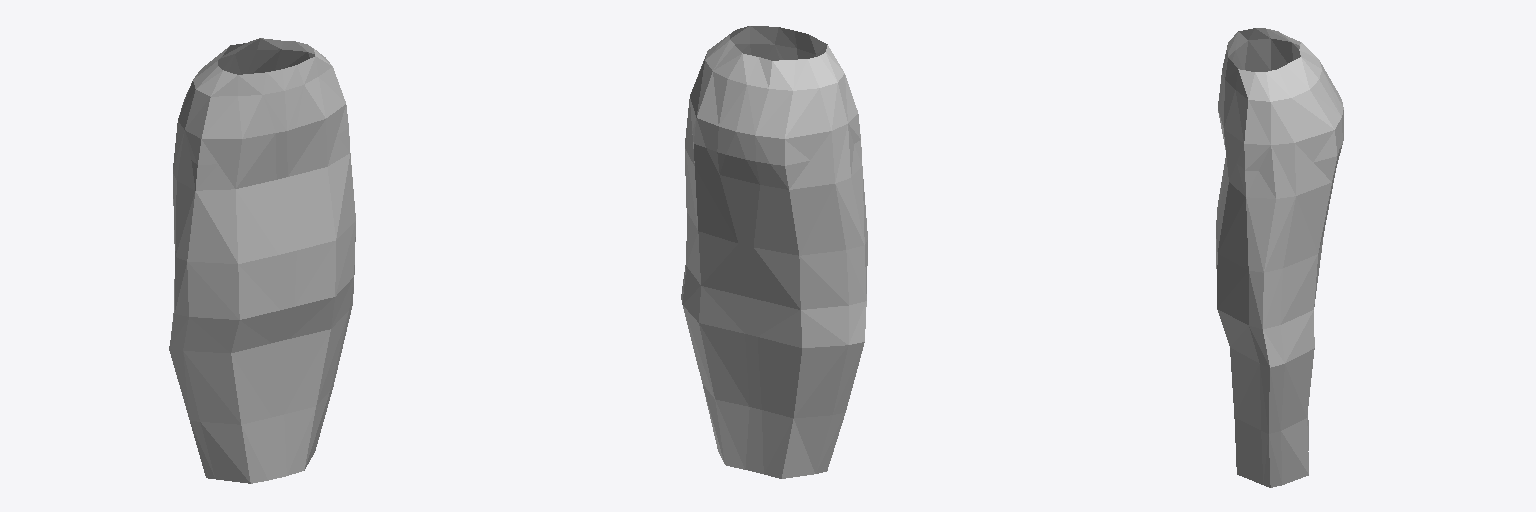
The model's file is avatar_skirt-skirt_bowlegs.obj.
3 renders of one model, left to right at view 1: azimuth 30°, elevation 25°; view 2: azimuth 150°, elevation 25°; view 3: azimuth 270°, elevation 25°, orthographic.
Visible parts, largest first — view 1: g1_avatar_skirt; view 2: g1_avatar_skirt; view 3: g1_avatar_skirt.
Part boxes in pixels (bbox=[...]): g1_avatar_skirt: bbox=[169, 38, 355, 483]; g1_avatar_skirt: bbox=[681, 26, 867, 478]; g1_avatar_skirt: bbox=[1216, 28, 1343, 487].
Bounding box in the file's own units: 0.5234 × 1.12 × 0.3149.